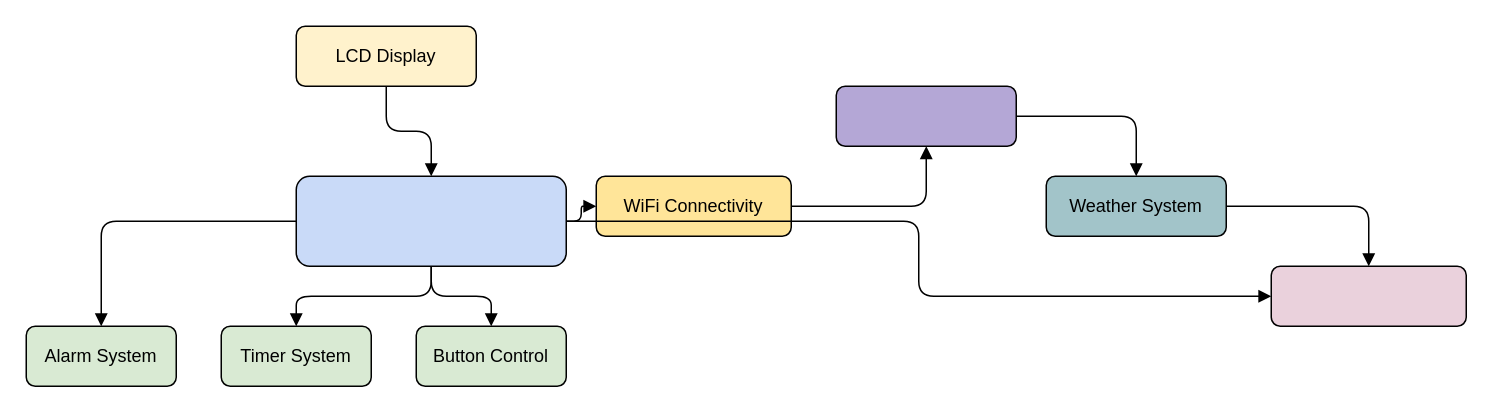
Image size: 1493x413. Some labels were removed from this diagram. Each missing label, with the box of its shape:
Main Controller: (295, 175, 566, 266)
Storage (EEPROM/Preferences): (1270, 265, 1466, 326)
Web Interface: (835, 85, 1016, 146)
